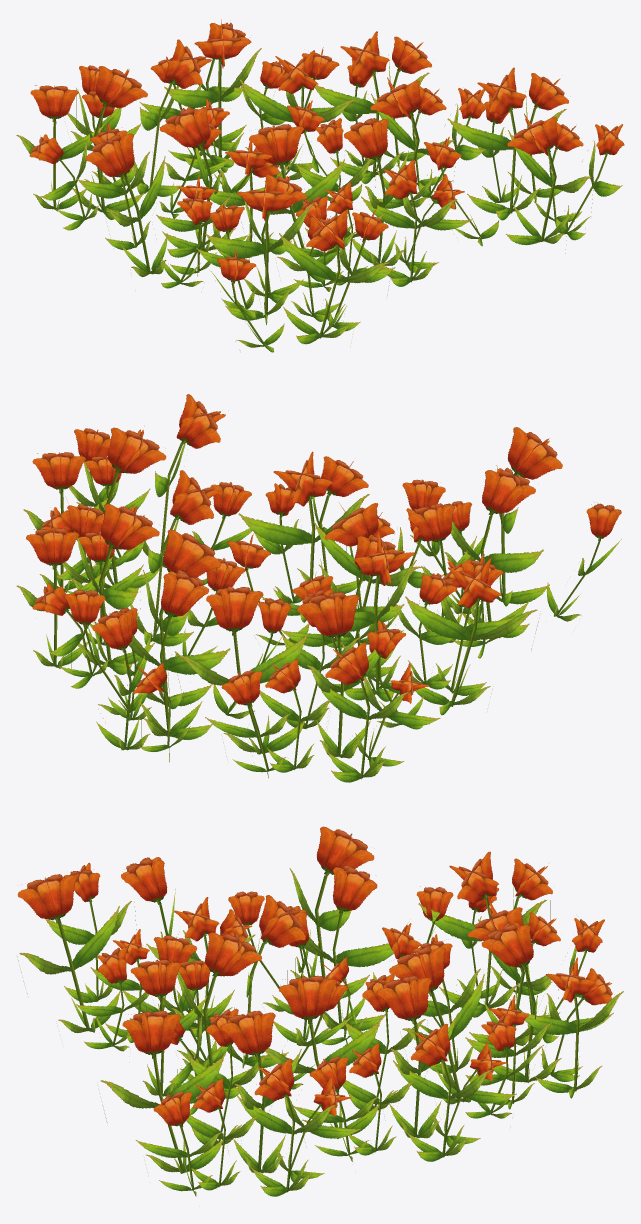
The model's file is obj_macoprfl02-02.glb.
3 renders of one model, top to bottom at view 1: azimuth 30°, elevation 25°; view 2: azimuth 150°, elevation 25°; view 3: azimuth 270°, elevation 25°, orthographic. The views are drawn at different scales.
Parts seen in each view (by area): view 1: part_0; view 2: part_0; view 3: part_0.
Part boxes in pixels (box(x1,y1,x2,y2)): part_0: box(16, 19, 624, 352); part_0: box(16, 394, 621, 782); part_0: box(17, 826, 623, 1196).
Bounding box in the file's own units: 1.7 × 0.5671 × 1.76.
Materials: 1 (1 with a texture image).
